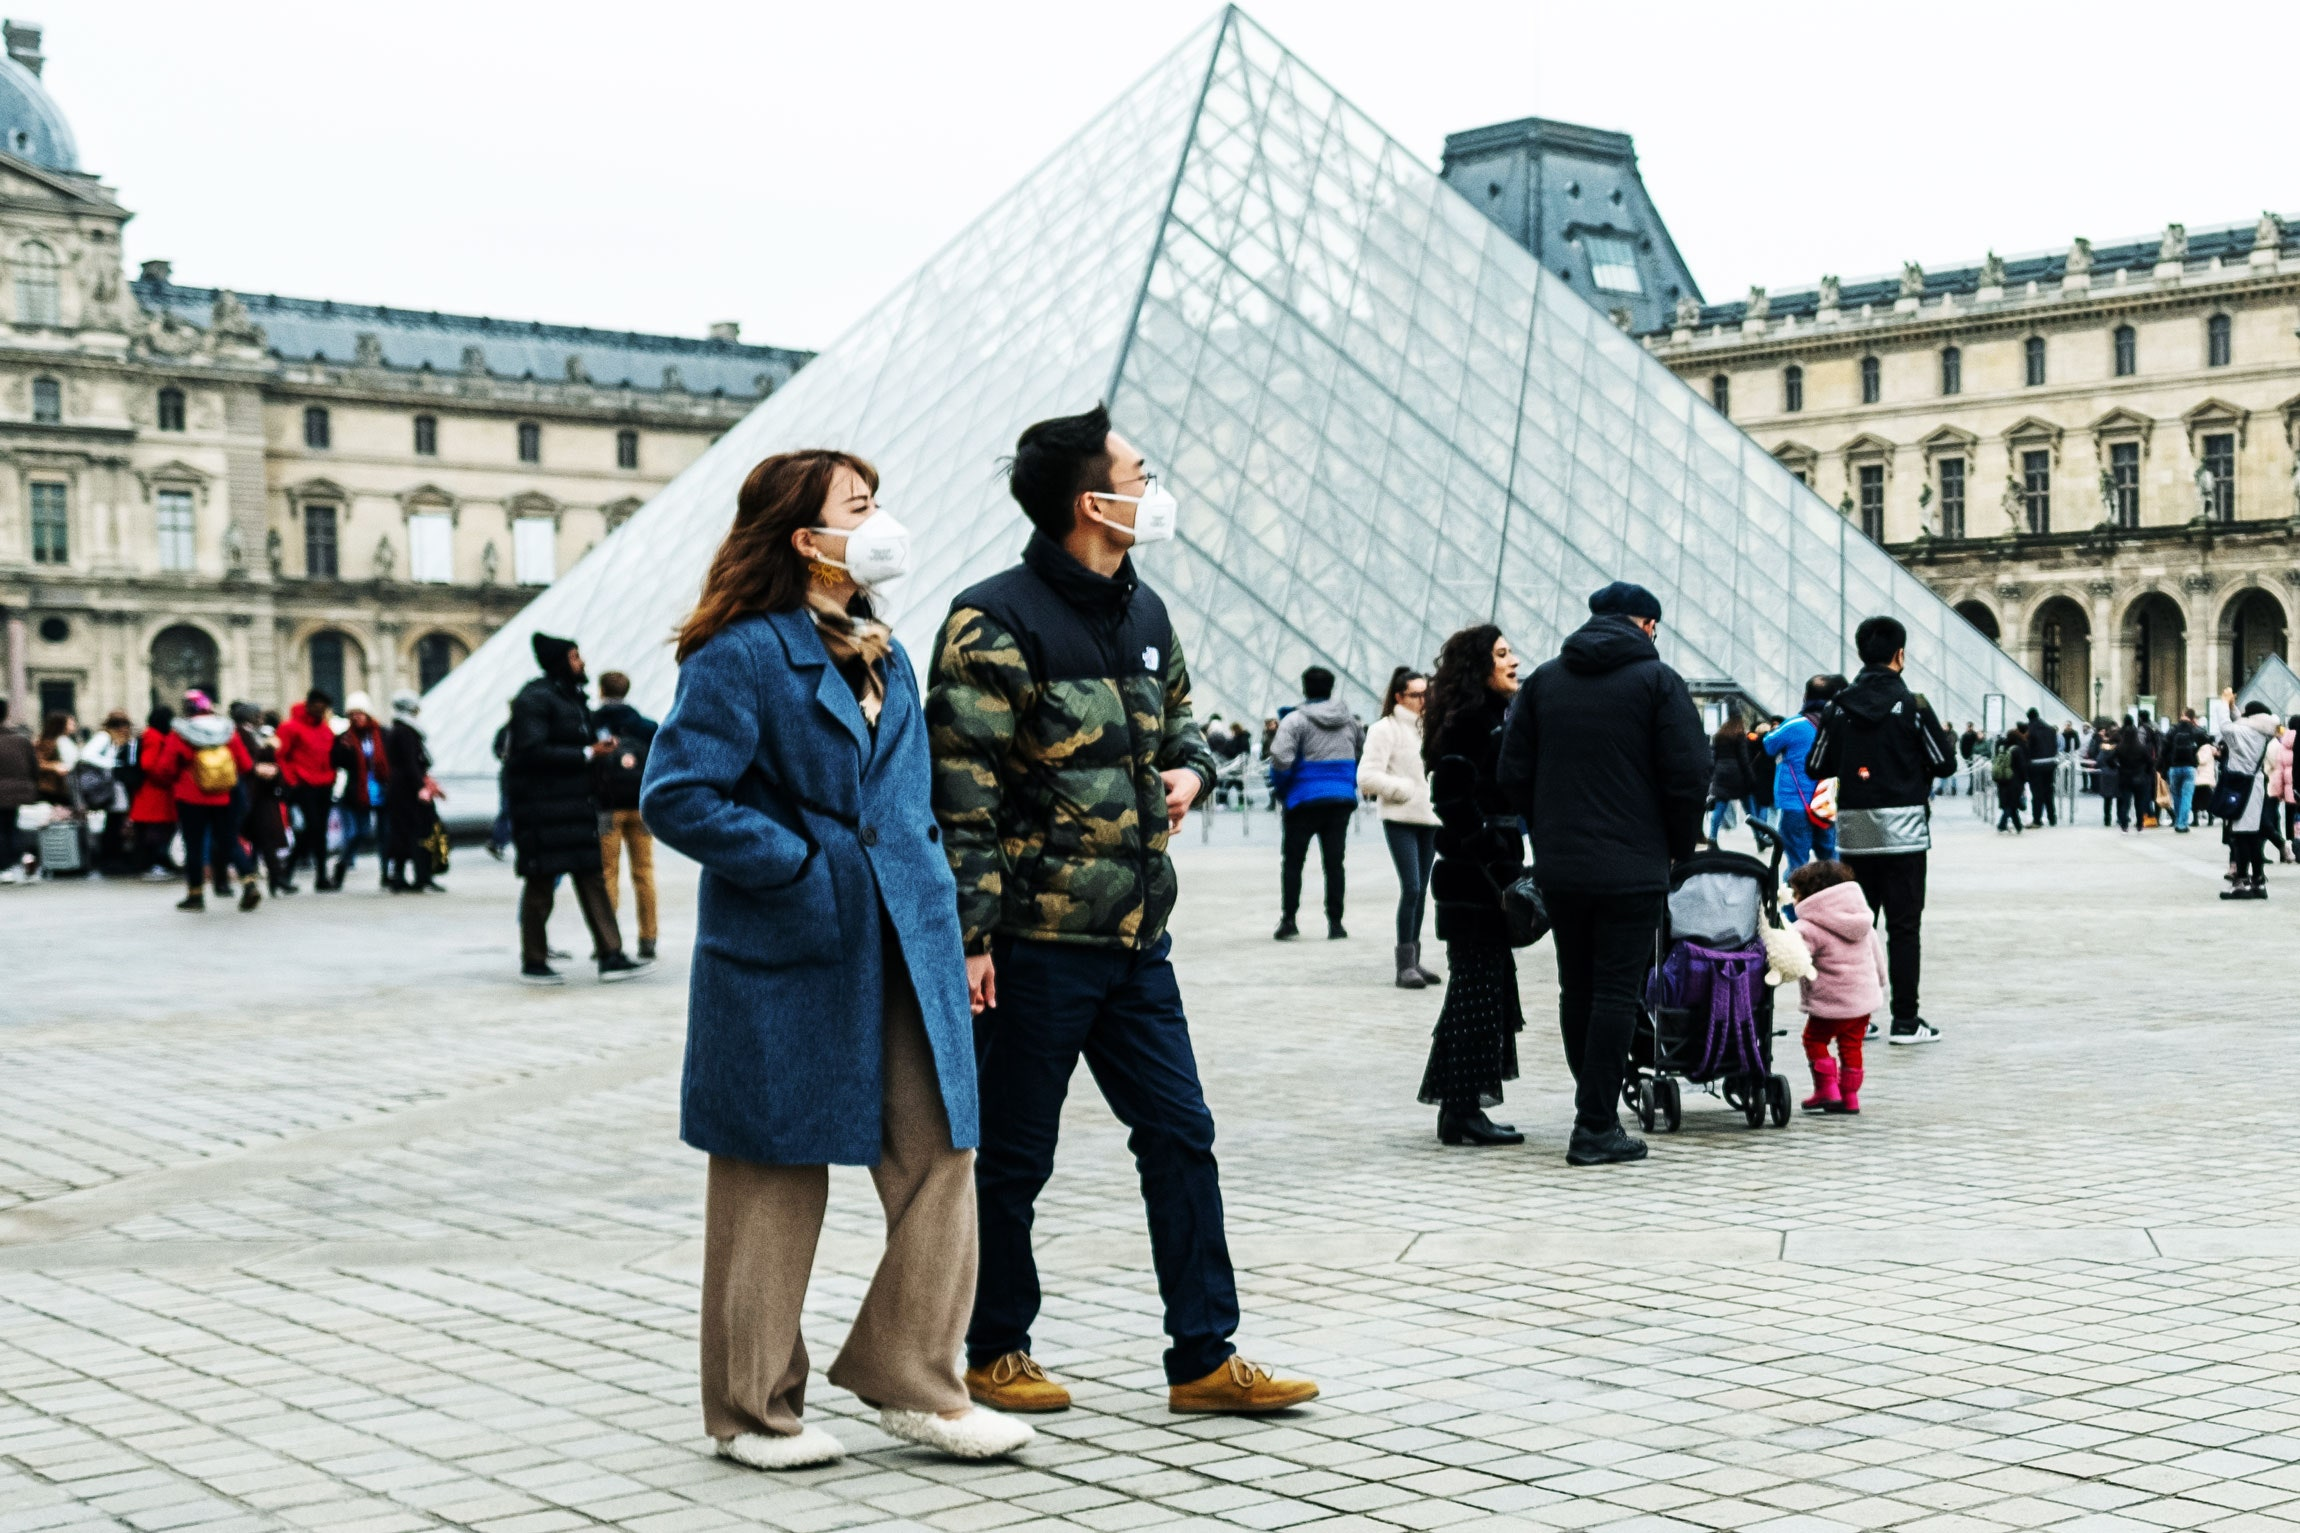person: (939, 422, 1314, 1422), (667, 450, 964, 1461)
